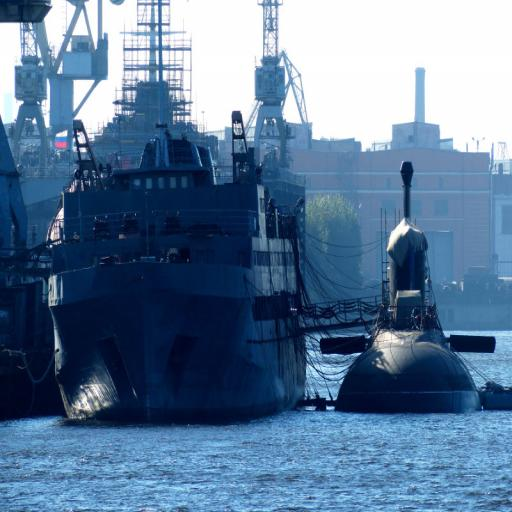submarine: (308, 159, 498, 414)
